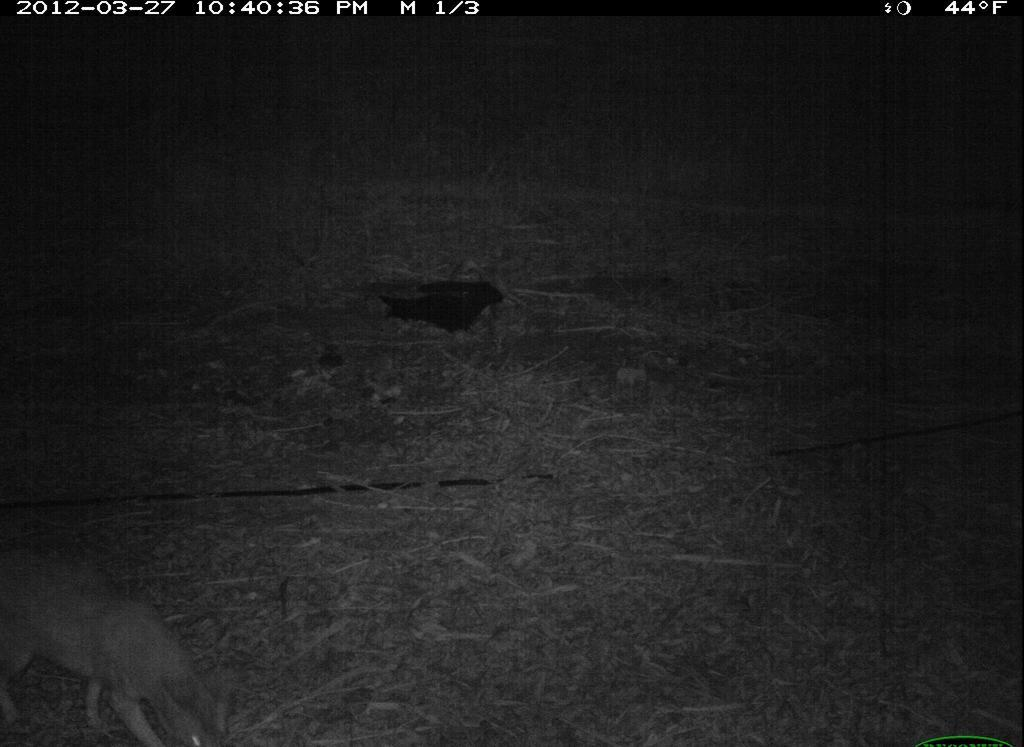coyote: (2, 541, 265, 744)
